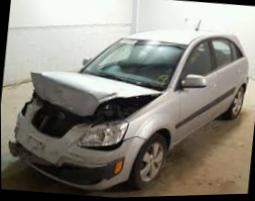Bonnet: (19, 68, 160, 141)
Bumper: (1, 128, 128, 188)
Light: (67, 125, 126, 150)
